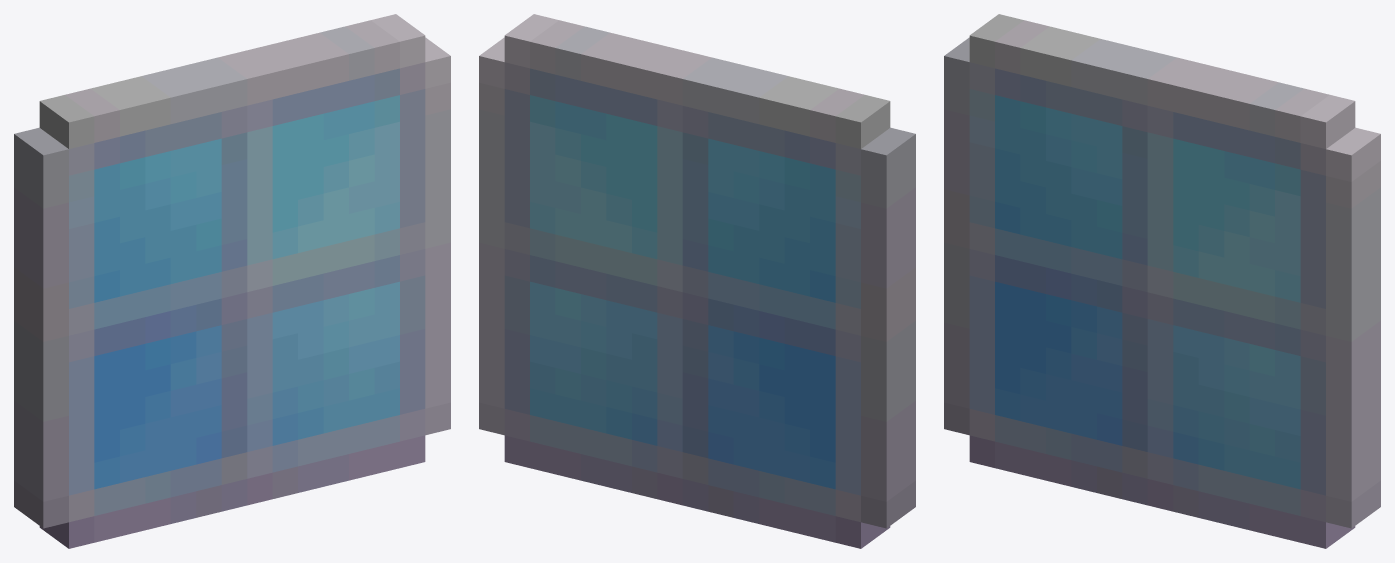
File: window.glb
3 renders of one model, left to right at view 1: azimuth 30°, elevation 25°; view 2: azimuth 150°, elevation 25°; view 3: azimuth 330°, elevation 25°, orthographic.
Parts seen in each view (by area): view 1: prop; view 2: prop; view 3: prop.
Boxes of the visible parts, x1,y1,x2,y2 form: prop: (14, 14, 450, 548); prop: (479, 14, 915, 548); prop: (944, 14, 1380, 548).
Bounding box in the file's own units: 16 × 16 × 2.
